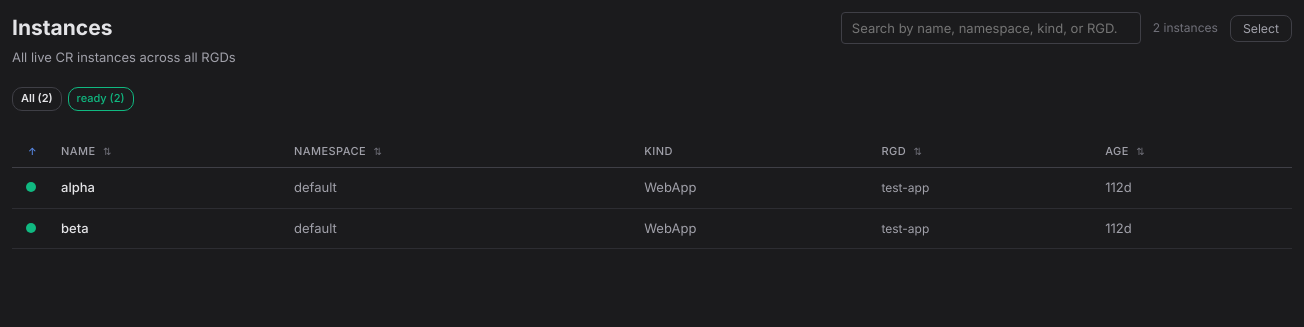
InstancesPage bulk operations (spec issue-536) › entering selection mode shows toolbar and checkbox column
Click the button with test id "instances-select-btn".
click(1261, 28)  # box [1230,14,1292,42]
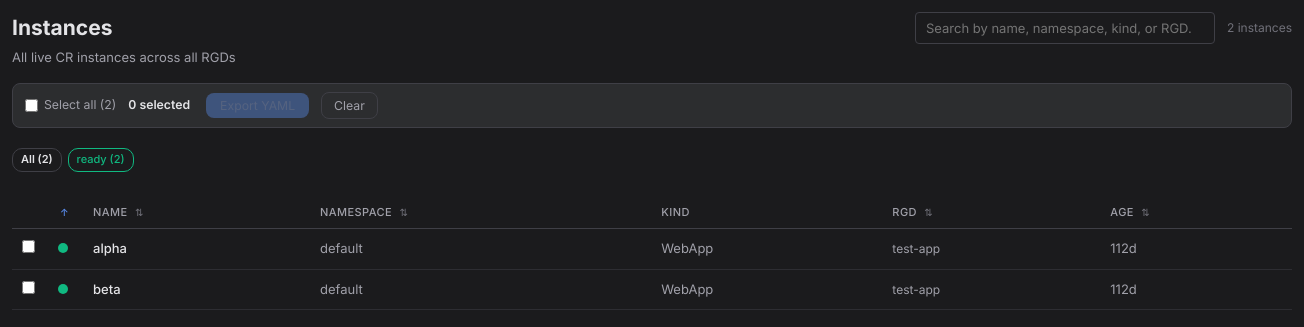
Now the element with test id "instances-selection-toolbar" is shown, box [12,83,1292,128]
Now the text with test id "instances-selection-count" reads "0 selected", box [128,96,190,115]
